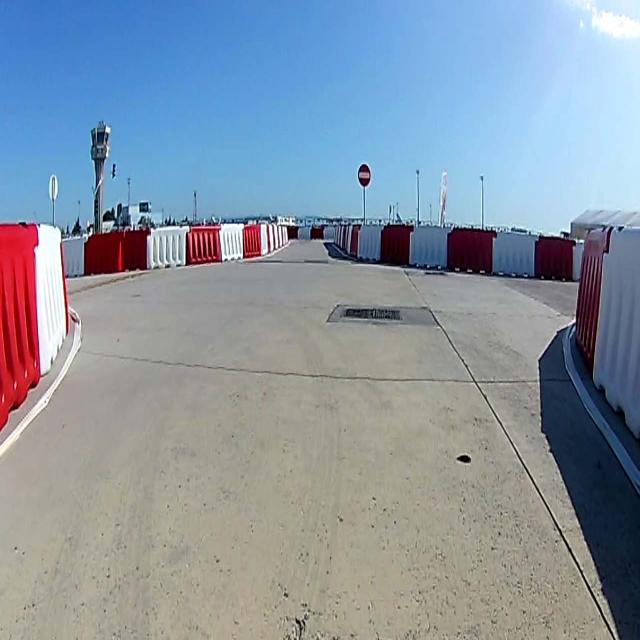girisyok: (357, 164, 371, 188)
